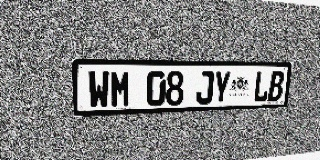0: (146, 71, 166, 106)
8: (165, 71, 185, 106)
B: (267, 71, 285, 102)
J: (195, 71, 214, 104)
L: (253, 71, 271, 102)
M: (110, 71, 131, 108)
W: (88, 71, 110, 109)
Y: (212, 71, 231, 104)
